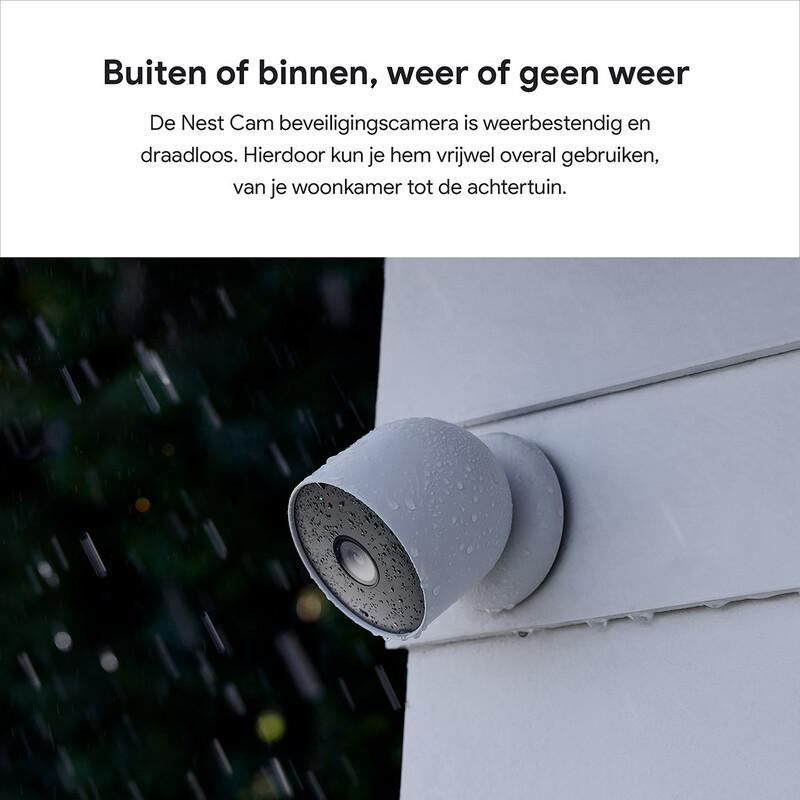nest: (284, 393, 513, 642)
